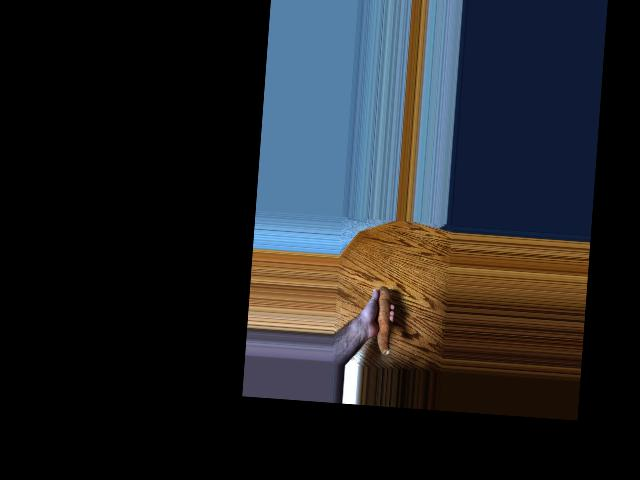sweet_potato: (368, 288, 393, 356)
